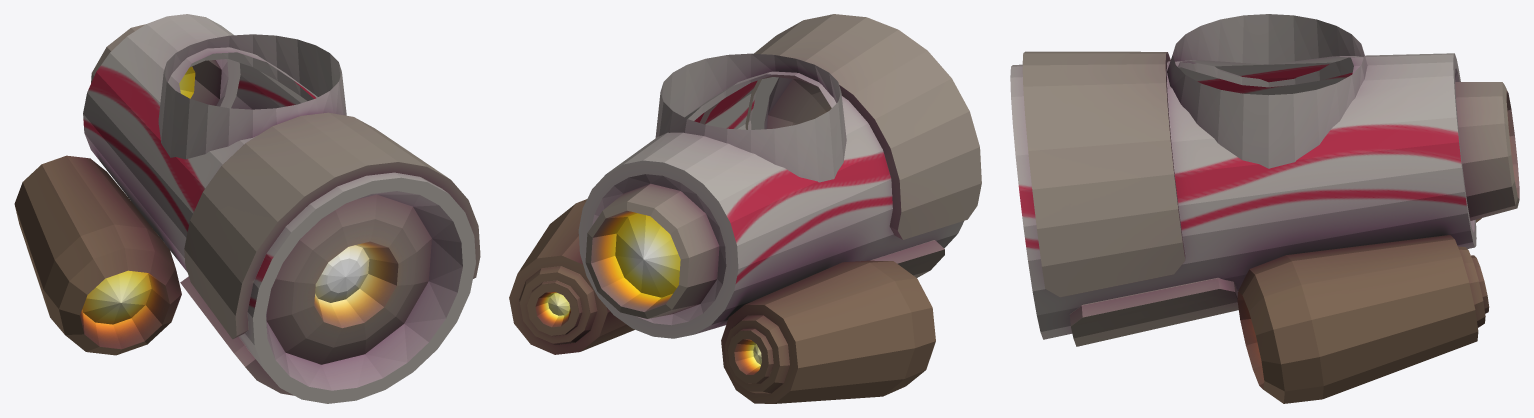
The model's file is ship.obj.
The picture shows the model from 3 angles, left to right: view 1: azimuth 30°, elevation 25°; view 2: azimuth 150°, elevation 25°; view 3: azimuth 270°, elevation 25°; orthographic projection. The views are drawn at different scales.
Visible parts, largest first — view 1: cockpit.001_Circle.004; view 2: cockpit.001_Circle.004; view 3: cockpit.001_Circle.004.
Boxes of the visible parts, box(x1,y1,x2,y2) form: cockpit.001_Circle.004: box(14, 14, 480, 403); cockpit.001_Circle.004: box(509, 14, 981, 403); cockpit.001_Circle.004: box(1010, 14, 1519, 403).
Size of the model in its own units: 9.95 by 6.53 by 10.82.
